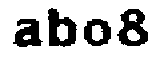8: (115, 5, 152, 51)
a: (9, 15, 43, 50)
b: (46, 4, 79, 50)
o: (82, 15, 113, 48)
